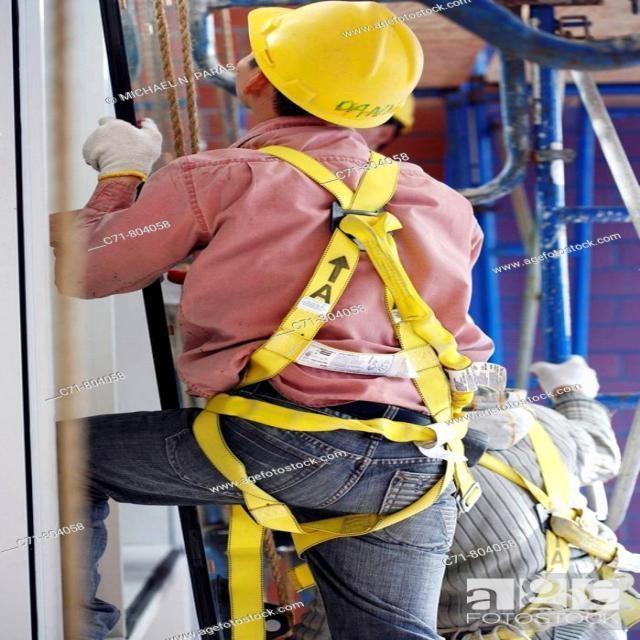Arnes_seguridad: (209, 141, 495, 546)
